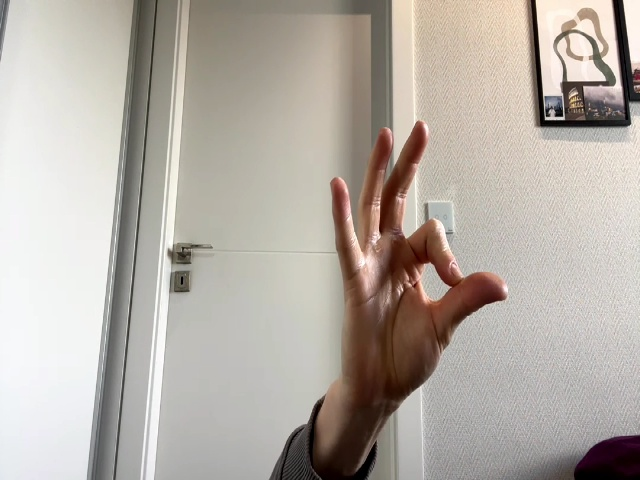S: (330, 121, 508, 399)
